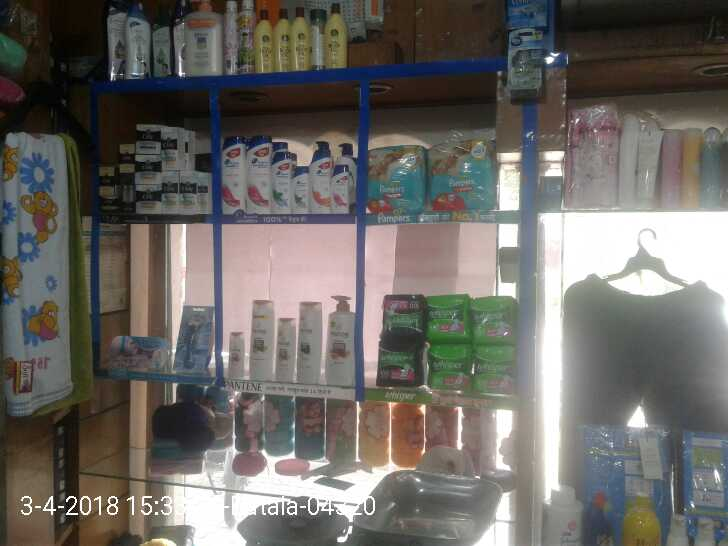ambipureVesus: (509, 28, 543, 94)
venus: (175, 304, 214, 370), (106, 332, 170, 372)
